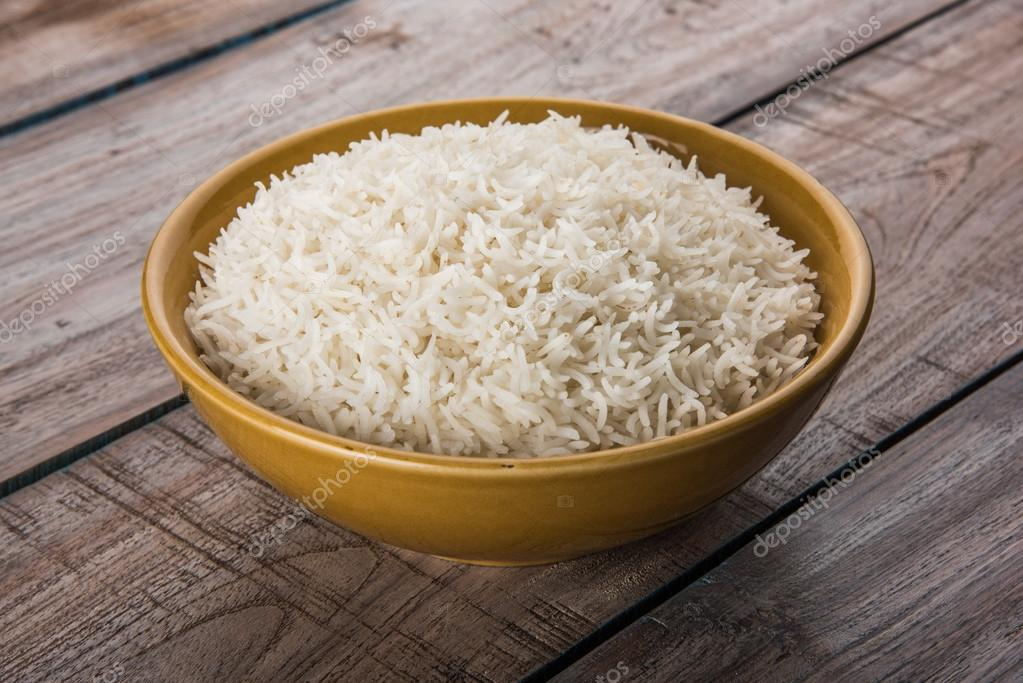plain rice: (288, 164, 750, 395)
